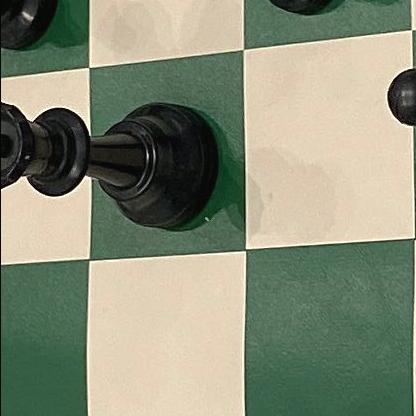black-pawn: (377, 51, 416, 172), (186, 0, 346, 24)
black-queen: (0, 98, 225, 234)
